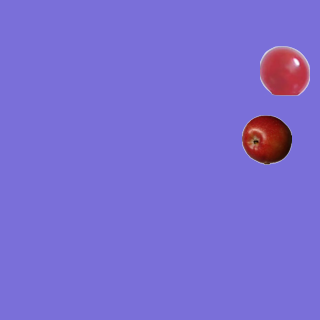Apple Braeburn: (241, 114, 291, 164)
Redcurrant: (259, 45, 309, 95)
